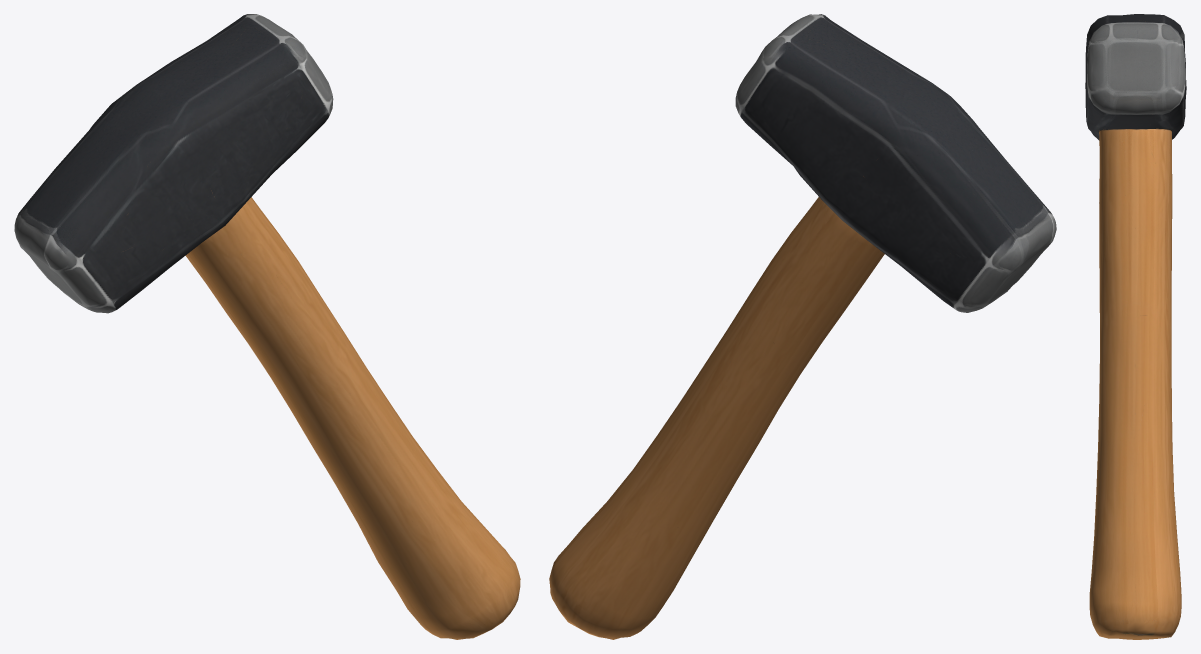
The model's file is hammer.glb.
The picture shows the model from 3 angles, left to right: view 1: azimuth 30°, elevation 25°; view 2: azimuth 150°, elevation 25°; view 3: azimuth 270°, elevation 25°; orthographic projection. The views are drawn at different scales.
Bounding box in the file's own units: 0.7811 × 1 × 0.1698.
Materials: 1 (1 with a texture image).
